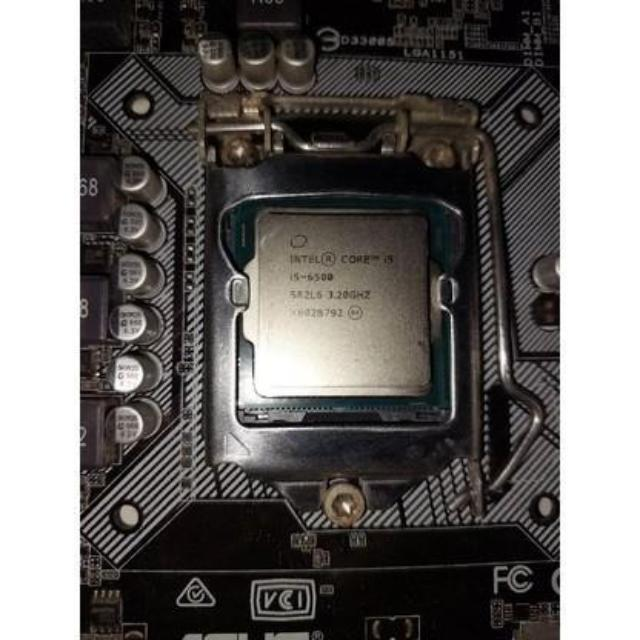CPU: (242, 192, 440, 412)
